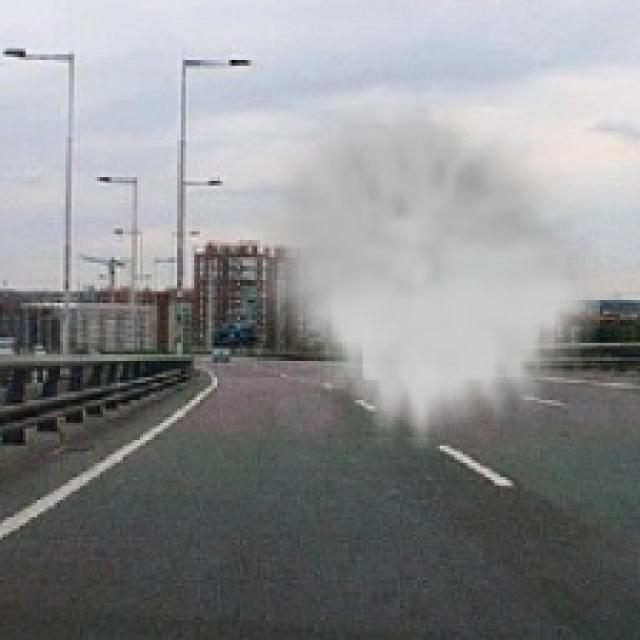Smoke: (251, 86, 600, 448)
